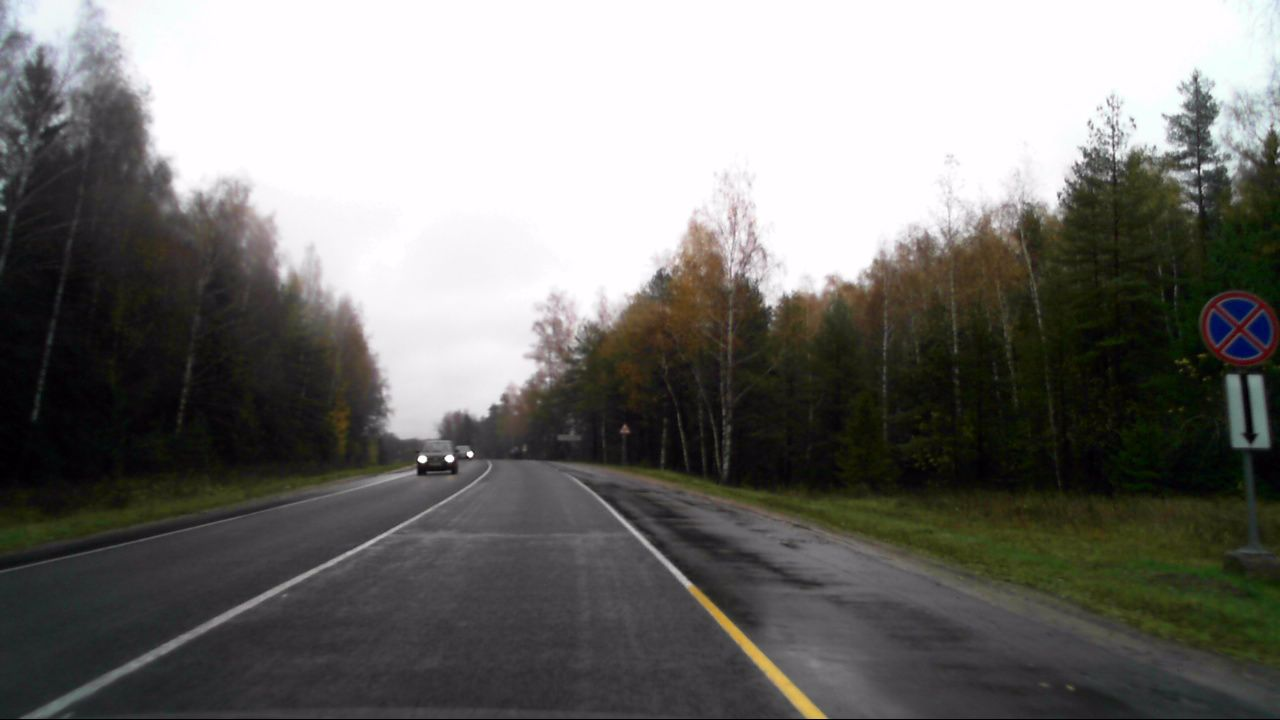No Parking: (1194, 288, 1275, 367)
